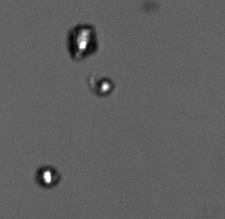Living Cell: (65, 22, 101, 61), (34, 163, 63, 189), (94, 74, 115, 97)
